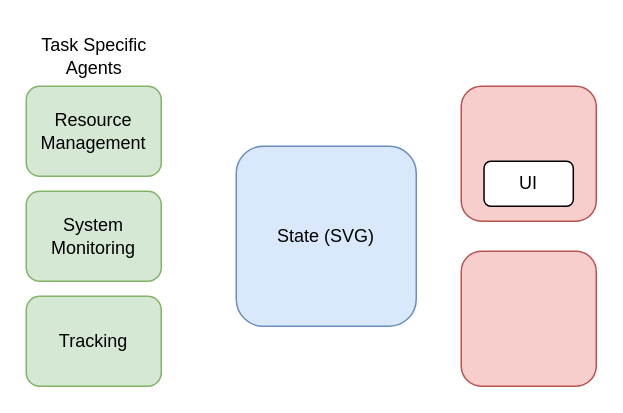
The diagram is 623 pixels wide and 413 high, and some of its shapes have lost their labels. Here are the shapes that lost their labels. From the top down, the box of each, then its label:
(460, 85, 596, 221): Avatar
(460, 250, 596, 386): Guidance Agent
